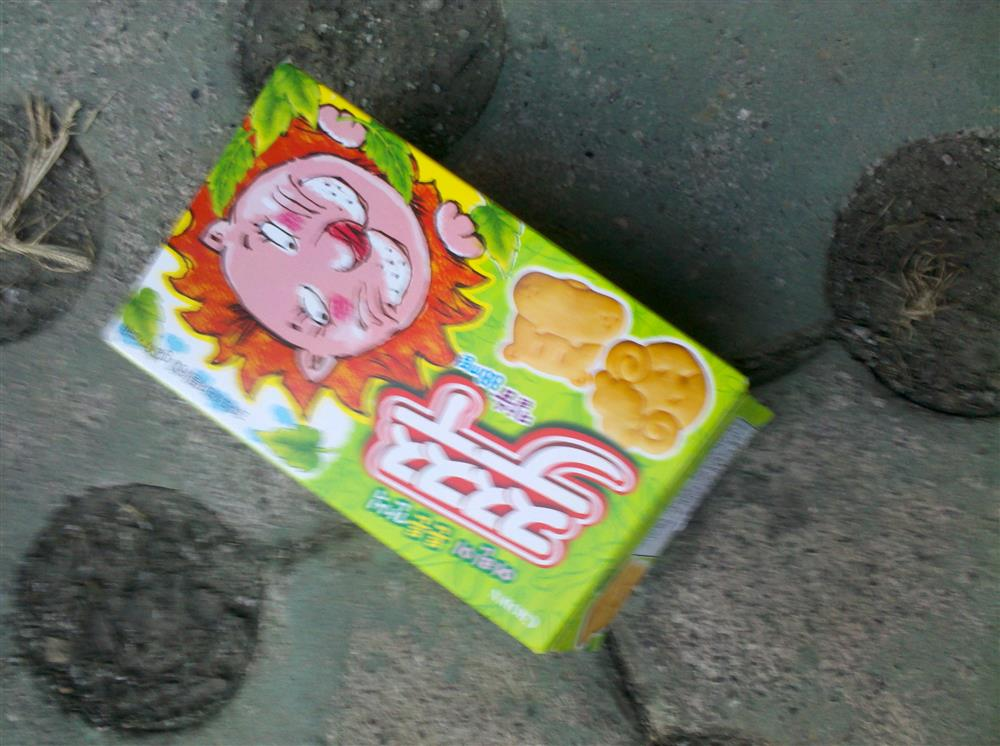Crown_Biscuit: (157, 108, 677, 567)
